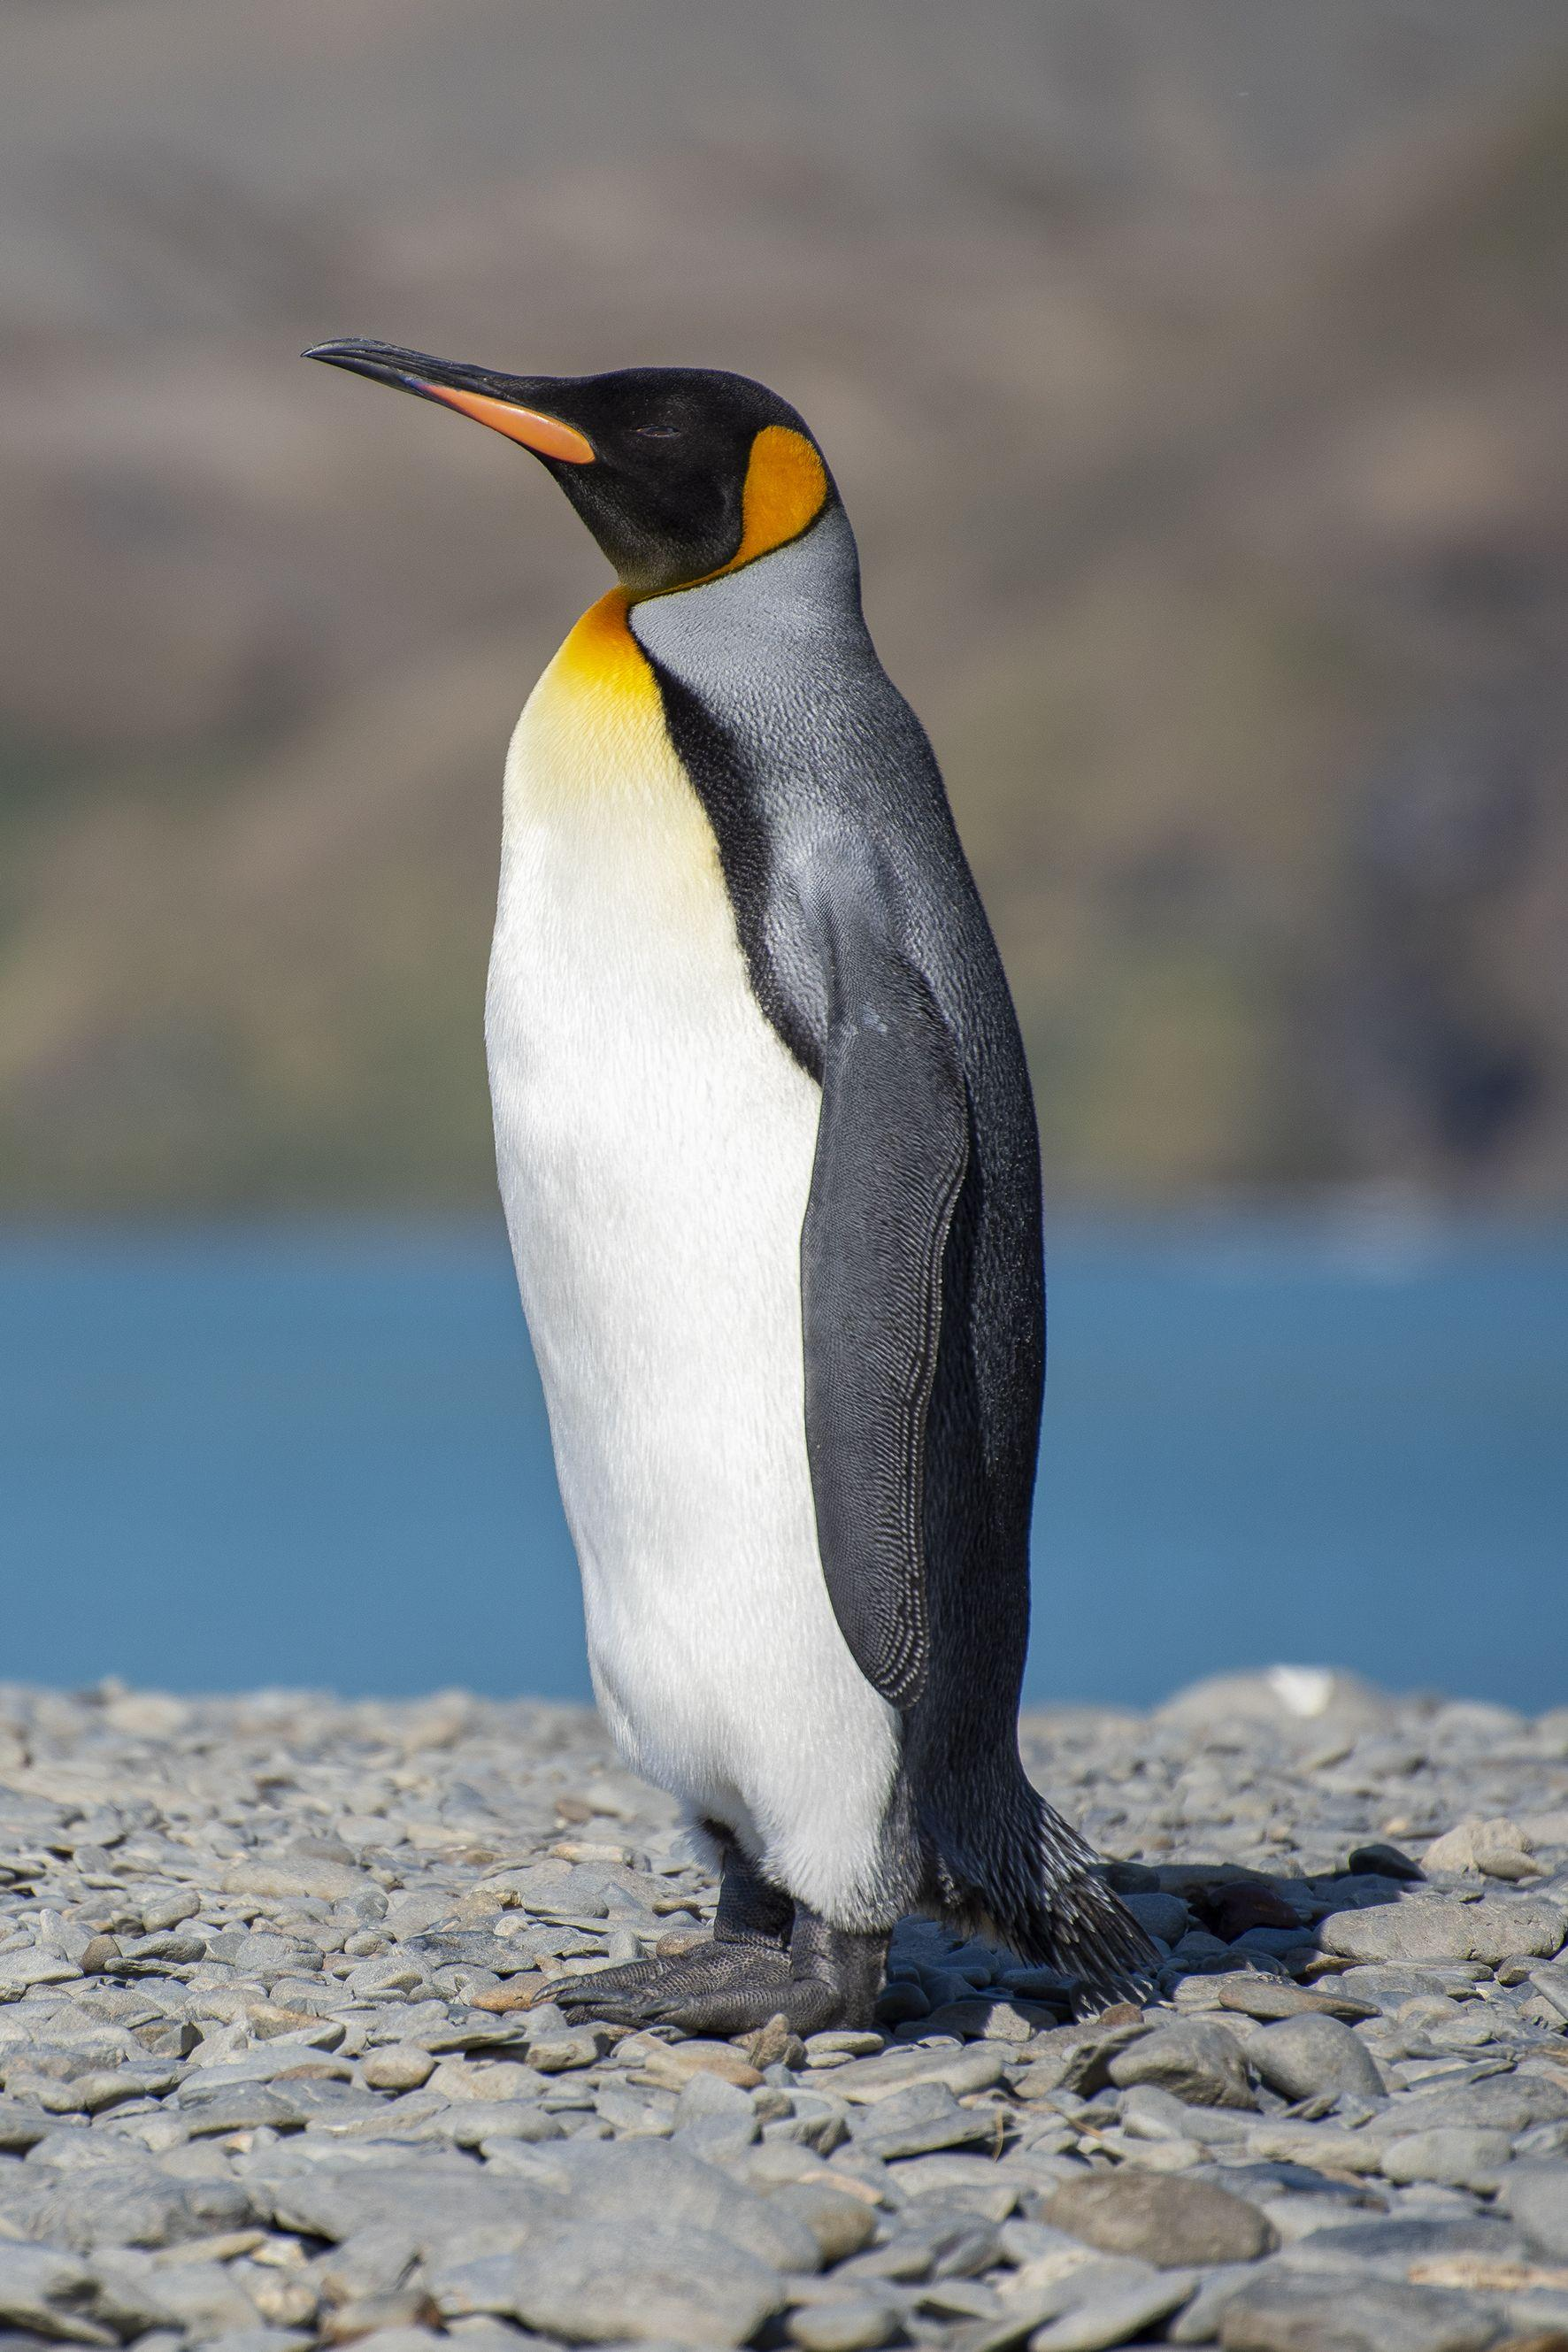king: (254, 248, 1312, 2067)
